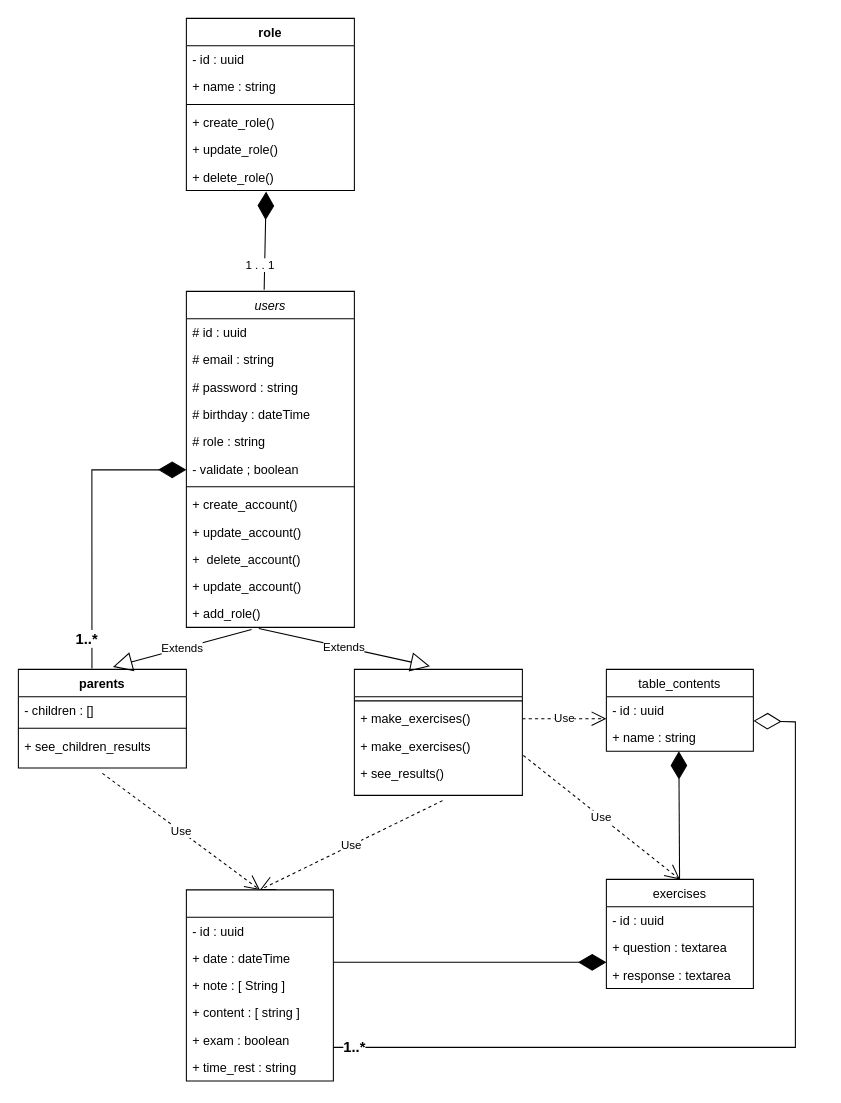
The diagram is 841 pixels wide and 1103 high, and some of its shapes have lost their labels. The box of each missing label's shape, as (x1, y1, x2, y2) in pixels:
results: (185, 889, 333, 1081)
student: (353, 668, 522, 795)
